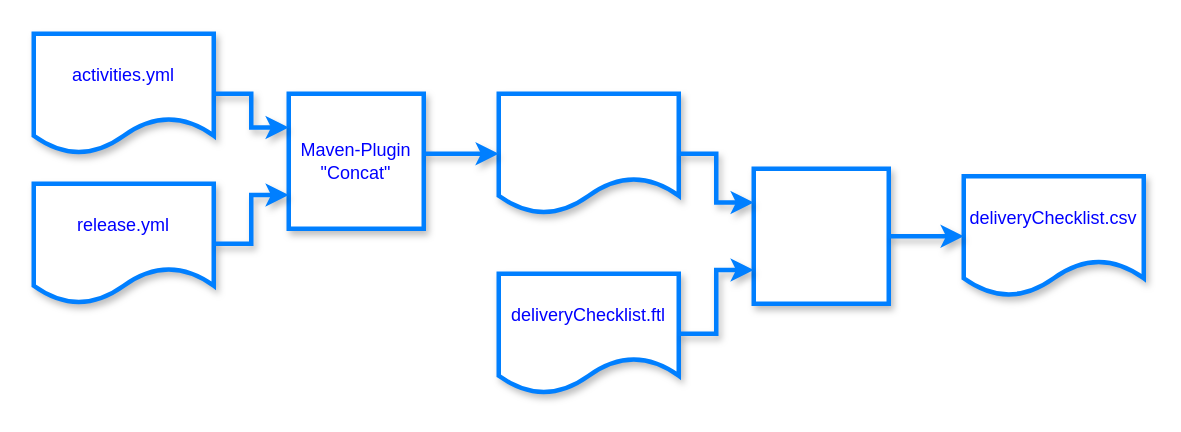
The diagram is 1181 pixels wide and 432 high, and some of its shapes have lost their labels. The centre of each missing label's shape, as x and y in pixels:
Maven-Plugin "Freemarker": (x=822, y=238)
model.yml: (x=589, y=155)
